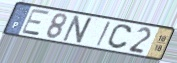2: (127, 26, 154, 55)
8: (46, 12, 69, 40)
C: (105, 24, 134, 51)
E: (20, 9, 51, 37)
I: (95, 20, 112, 48)
N: (60, 15, 96, 46)
